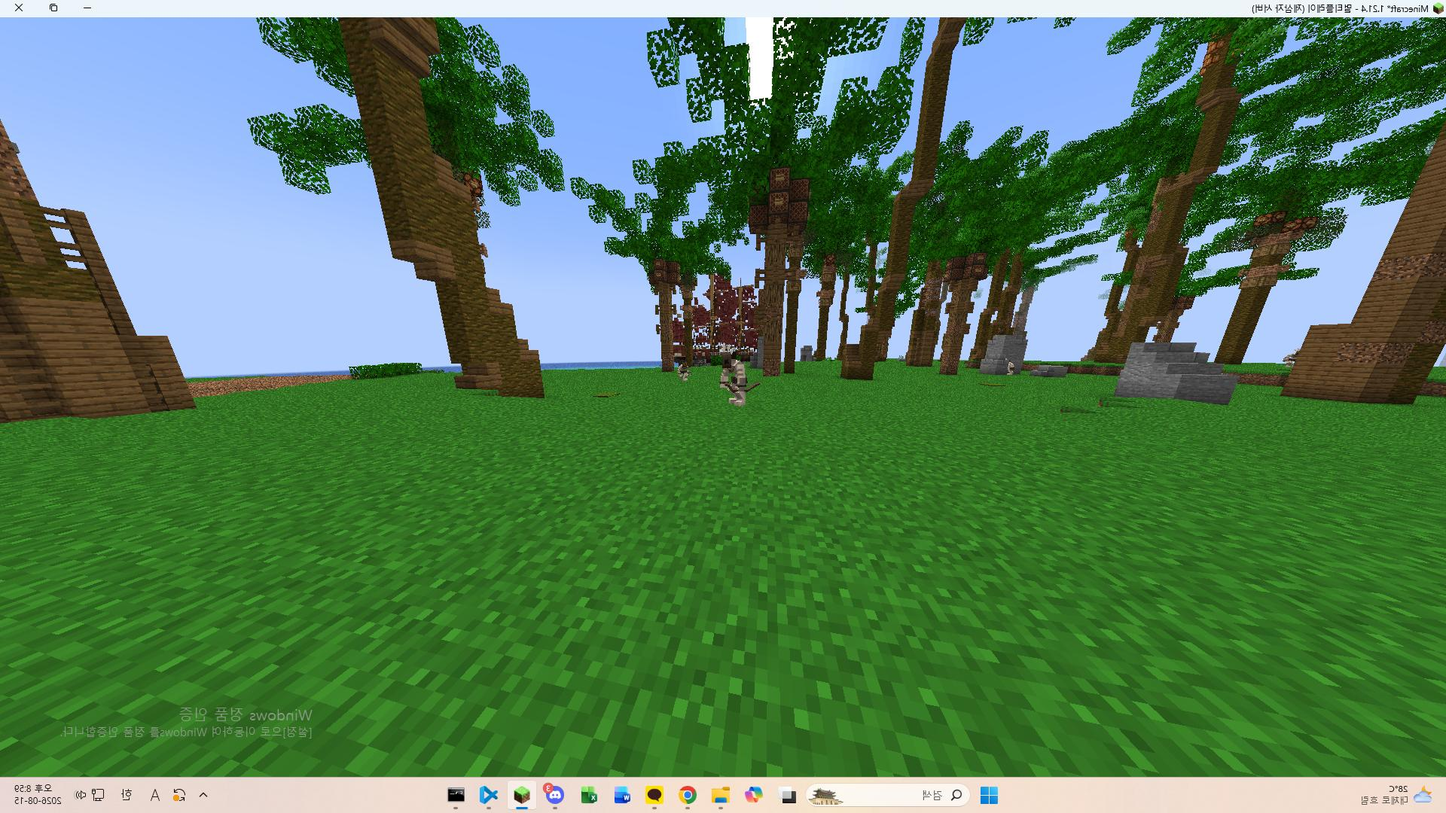bow_indian: (707, 338, 761, 407)
